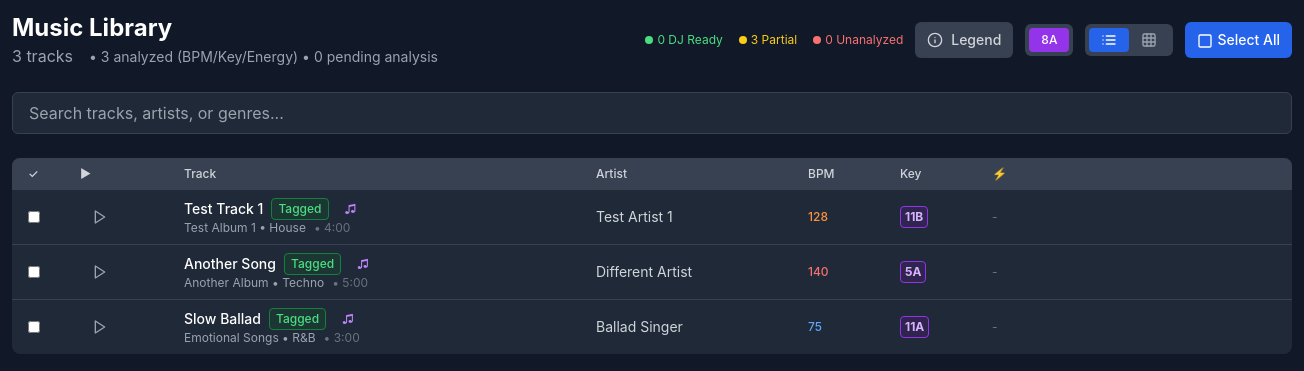
Test case: LibraryView Component › Search and Filtering › shows no results message when search yields no matches
Expected: the text "3 tracks" is shown, x1=12 y1=46 x2=73 y2=66
In the field with placeholder "Search tracks, artists, or genres...": (652, 113) x1=12 y1=92 x2=1292 y2=134, type "nonexistent"
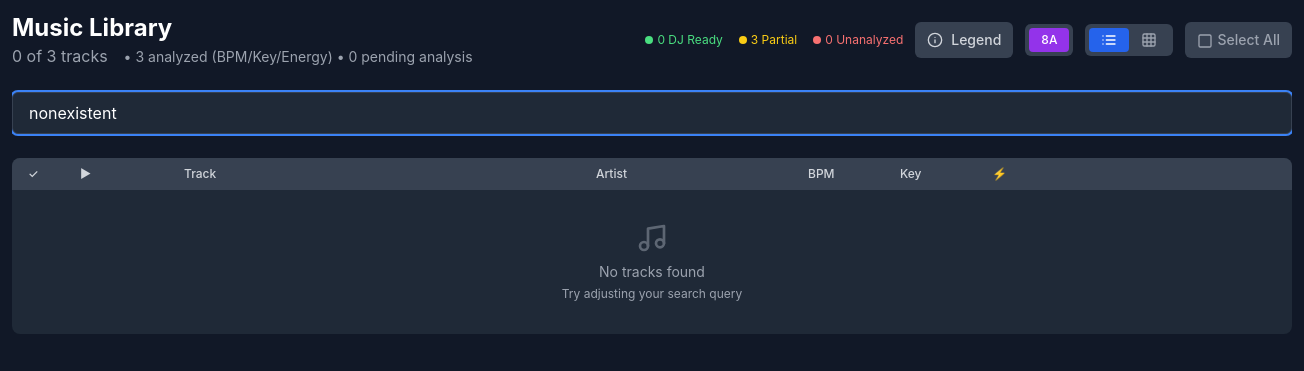
Now the text "No tracks found" is shown, box x1=599 y1=263 x2=705 y2=280
Now the text "Try adjusting your search query" is shown, box x1=562 y1=286 x2=742 y2=301
